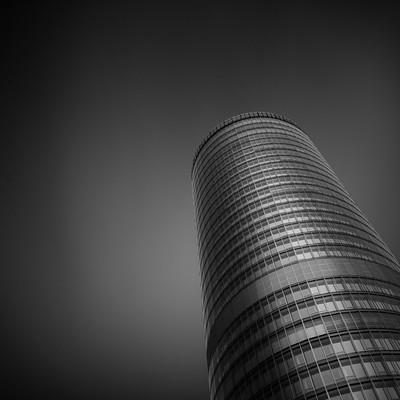building: (186, 106, 400, 400)
